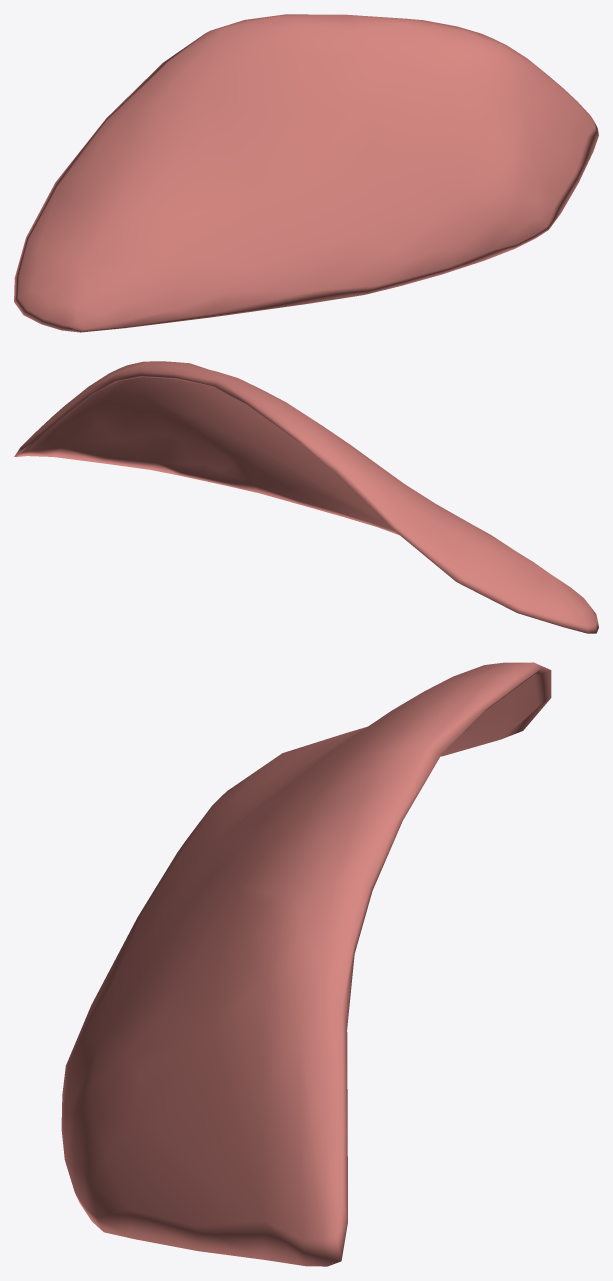
3 renders of one model, top to bottom at view 1: azimuth 30°, elevation 25°; view 2: azimuth 150°, elevation 25°; view 3: azimuth 270°, elevation 25°, orthographic. The views are drawn at different scales.
Visible parts, largest first — view 1: ZA_431185a751207305; view 2: ZA_431185a751207305; view 3: ZA_431185a751207305.
Part boxes in pixels (x1=…): ZA_431185a751207305: x1=14, y1=14, x2=598, y2=332; ZA_431185a751207305: x1=14, y1=361, x2=598, y2=633; ZA_431185a751207305: x1=61, y1=662, x2=551, y2=1266.
Size of the model in its own units: 0.0374 by 0.0124 by 0.0138.
